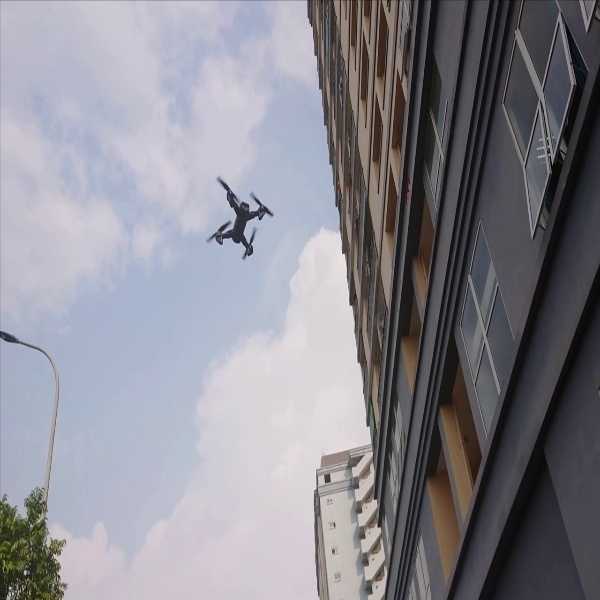drone: (207, 162, 277, 270)
